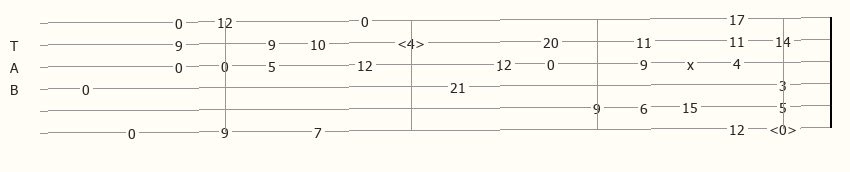0: (82, 79, 94, 93), (128, 123, 140, 137), (175, 57, 187, 71), (175, 13, 187, 27), (221, 57, 233, 71), (361, 13, 373, 27), (547, 57, 559, 71)
10: (310, 35, 330, 49)
11: (636, 35, 656, 49), (729, 35, 749, 49)
12: (217, 13, 237, 27), (357, 57, 377, 71), (496, 57, 516, 71), (729, 123, 749, 137)
14: (775, 35, 795, 49)
15: (682, 101, 702, 115)
17: (729, 13, 749, 27)
20: (543, 35, 563, 49)
21: (450, 79, 470, 93)
3: (779, 79, 791, 93)
4: (733, 57, 745, 71)
5: (268, 57, 280, 71), (779, 101, 791, 115)
6: (640, 101, 652, 115)
7: (314, 123, 326, 137)
9: (175, 35, 187, 49), (221, 123, 233, 137), (268, 35, 280, 49), (593, 101, 605, 115), (640, 57, 652, 71)
harmonic: (397, 35, 429, 49), (769, 123, 801, 137)
x: (687, 58, 698, 70)
